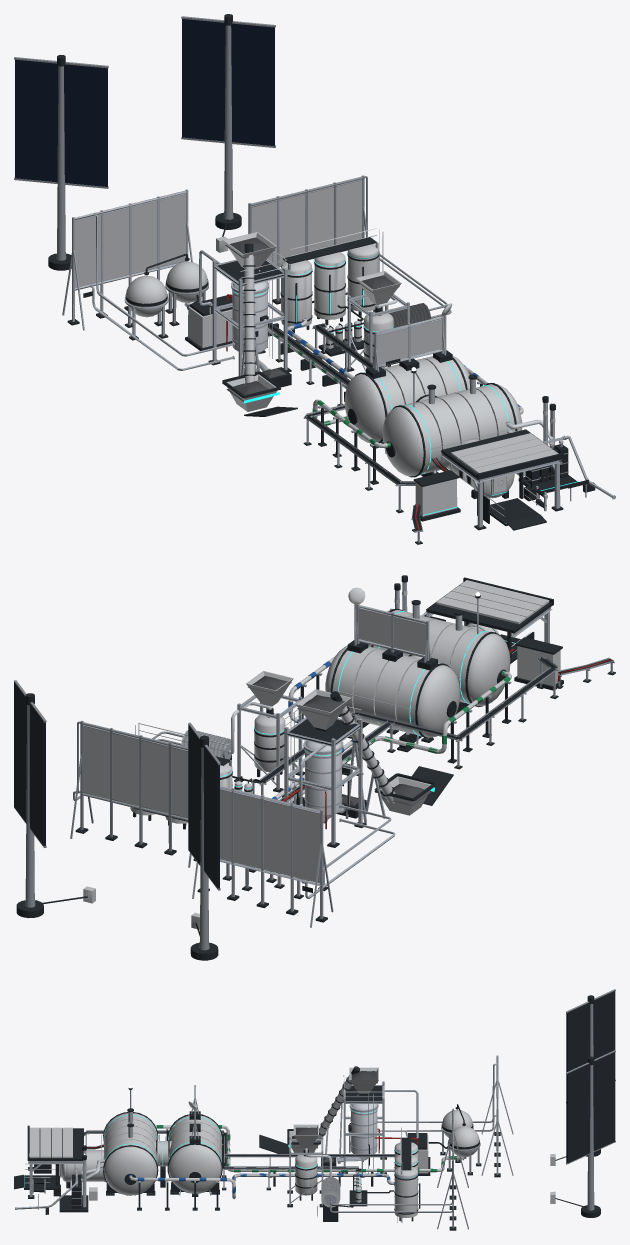
Rendered from life_support_game.glb.
The picture shows the model from 3 angles, top to bottom: view 1: azimuth 30°, elevation 25°; view 2: azimuth 150°, elevation 25°; view 3: azimuth 270°, elevation 25°; orthographic projection. The views are drawn at different scales.
Visible parts, largest first — view 1: LS_Paint, Tier_20, LS_Metal, Tier_03, Tier_05, Tier_12; view 2: LS_Paint, LS_Metal, Tier_20, Tier_03; view 3: LS_Paint, Tier_20, LS_Metal, Tier_03, Tier_12, Tier_05, LS_GlowCyan.
Part boxes in pixels (x1=…): LS_Paint: x1=67, y1=193, x2=595, y2=544; Tier_20: x1=14, y1=14, x2=275, y2=270; LS_Metal: x1=62, y1=189, x2=615, y2=542; Tier_03: x1=248, y1=175, x2=451, y2=318; Tier_05: x1=165, y1=257, x2=208, y2=326; Tier_12: x1=347, y1=244, x2=379, y2=311; LS_Paint: x1=133, y1=575, x2=615, y2=922; LS_Metal: x1=135, y1=582, x2=614, y2=927; Tier_20: x1=14, y1=680, x2=220, y2=960; Tier_03: x1=70, y1=720, x2=196, y2=867; LS_Paint: x1=14, y1=1066, x2=500, y2=1221; Tier_20: x1=550, y1=989, x2=615, y2=1217; LS_Metal: x1=15, y1=1055, x2=513, y2=1222; Tier_03: x1=330, y1=1108, x2=468, y2=1230; Tier_12: x1=394, y1=1166, x2=418, y2=1217; Tier_05: x1=447, y1=1123, x2=481, y2=1175; LS_GlowCyan: x1=24, y1=1109, x2=418, y2=1191.
Bounding box in the file's own units: 21.16 × 15.5 × 54.15.
